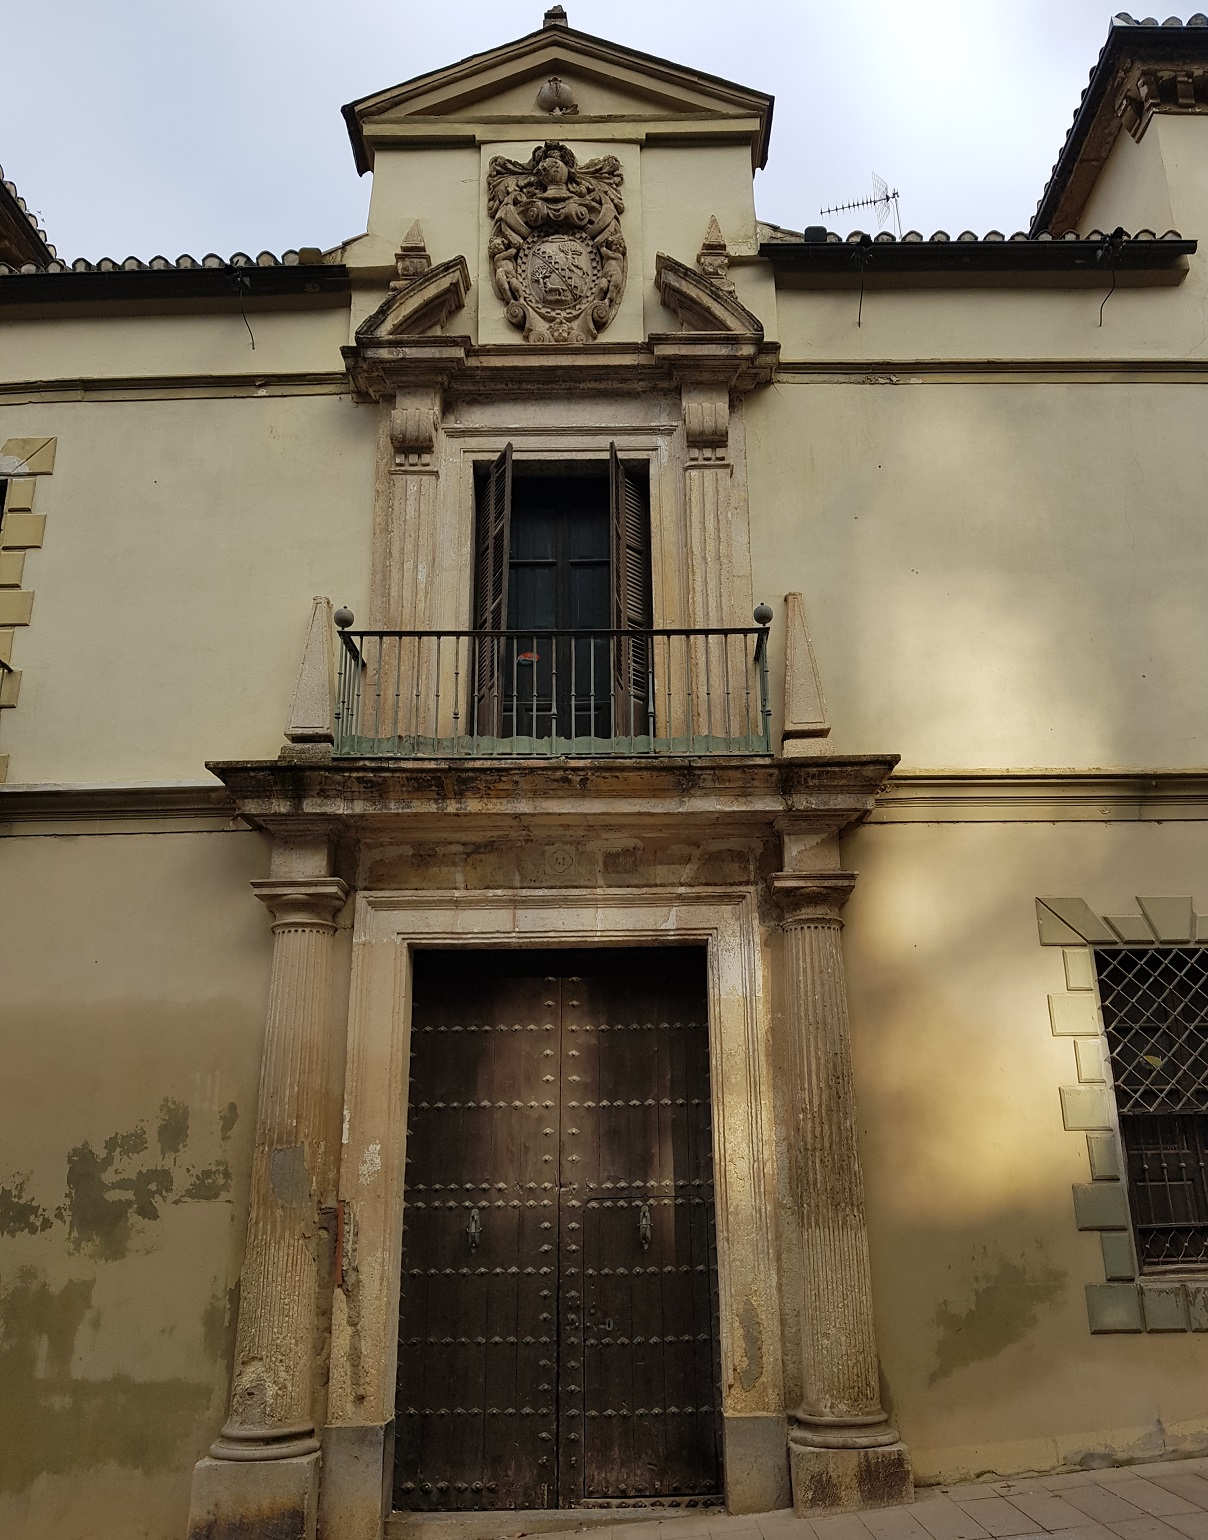fronton: (338, 22, 784, 132)
fronton-partido: (351, 252, 774, 375)
vano-adintelado: (346, 886, 777, 1520), (450, 430, 684, 744)
